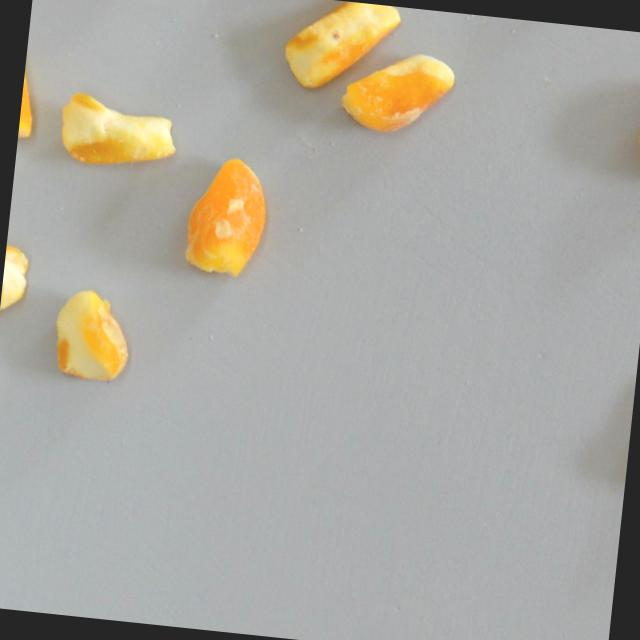dañado: (276, 0, 403, 96)
estandar: (0, 244, 32, 323)
pelicula: (178, 151, 272, 282), (337, 45, 457, 140), (56, 88, 180, 171), (47, 285, 135, 388), (17, 44, 40, 147)
